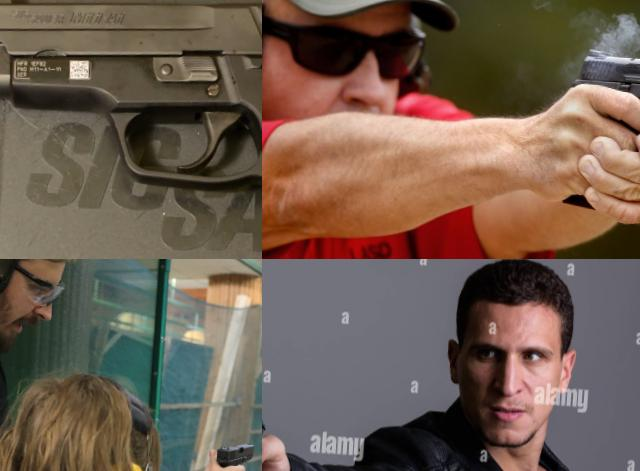handgun: (0, 0, 262, 259), (558, 44, 640, 227), (262, 383, 344, 471), (212, 438, 256, 471)
